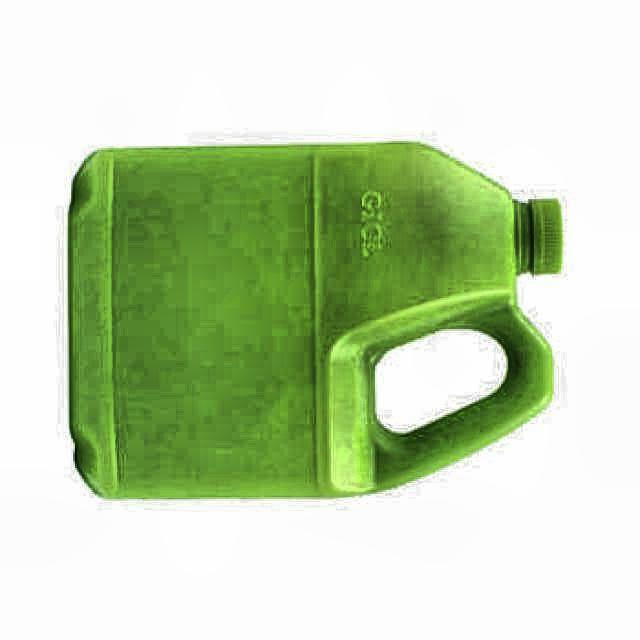plastic: (69, 141, 562, 498)
